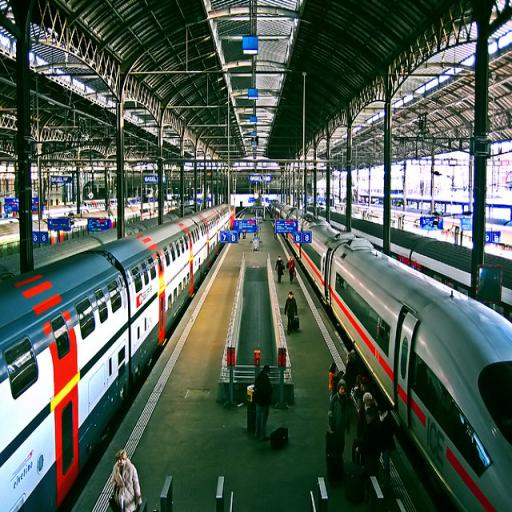platform_edge: (297, 273, 349, 381), (166, 276, 219, 380), (102, 406, 172, 444)
